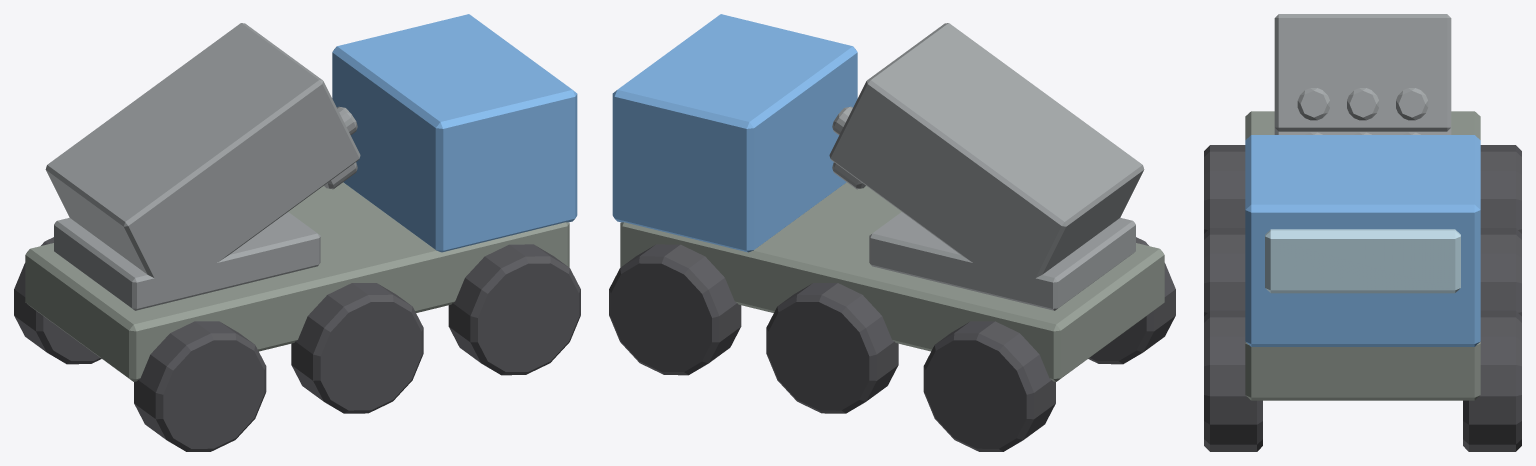
File: lancer.glb
The picture shows the model from 3 angles, left to right: view 1: azimuth 30°, elevation 25°; view 2: azimuth 150°, elevation 25°; view 3: azimuth 270°, elevation 25°; orthographic projection. The views are drawn at different scales.
Visible parts, largest first — view 1: Hull, Turret; view 2: Hull, Turret; view 3: Hull, Turret.
Part boxes in pixels (bbox=[...]): Hull: bbox=[14, 14, 580, 451]; Turret: bbox=[45, 23, 360, 310]; Hull: bbox=[609, 14, 1175, 451]; Turret: bbox=[829, 23, 1144, 310]; Hull: bbox=[1204, 111, 1521, 451]; Turret: bbox=[1274, 14, 1451, 134].
Size of the model in its own units: 2.9 by 1.91 by 1.62.
